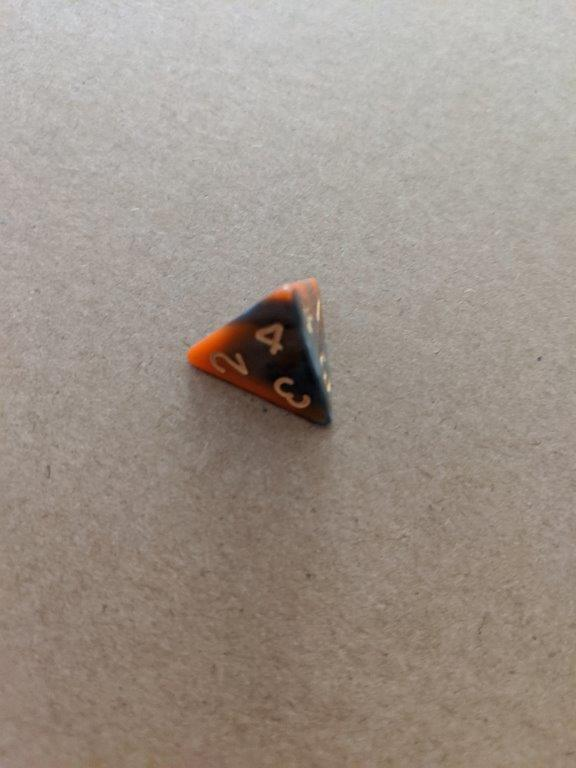d4-4: (179, 274, 337, 439)
